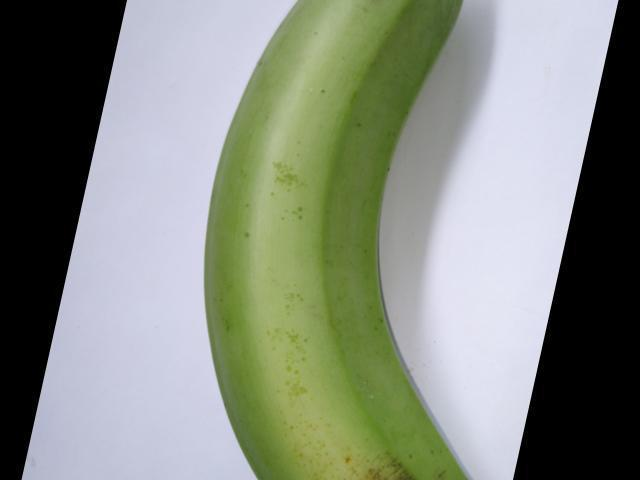freshunripe: (182, 0, 491, 479)
